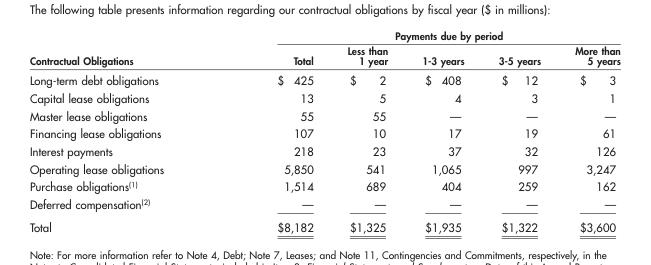table: (28, 28, 619, 233)
table column: (28, 28, 219, 233), (219, 28, 329, 233), (480, 28, 557, 233), (404, 28, 480, 233), (329, 28, 404, 233), (557, 28, 619, 233)
table column header: (28, 28, 619, 69)
table row: (28, 42, 619, 69), (28, 194, 619, 215), (28, 69, 619, 88), (28, 88, 619, 106), (28, 106, 619, 124), (28, 141, 619, 159), (28, 159, 619, 177), (28, 215, 619, 233), (28, 124, 619, 141), (28, 177, 619, 194), (28, 28, 619, 42)
table spanning cell: (28, 28, 219, 69), (219, 28, 619, 42)
